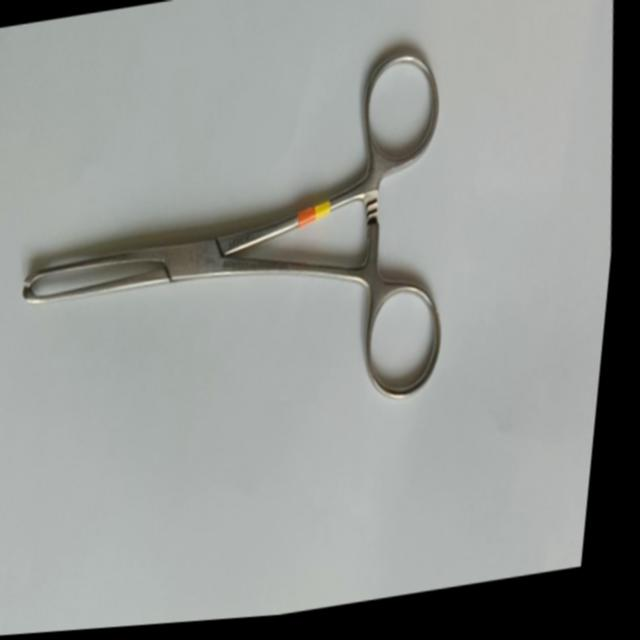AllisForcep: (0, 43, 483, 467)
